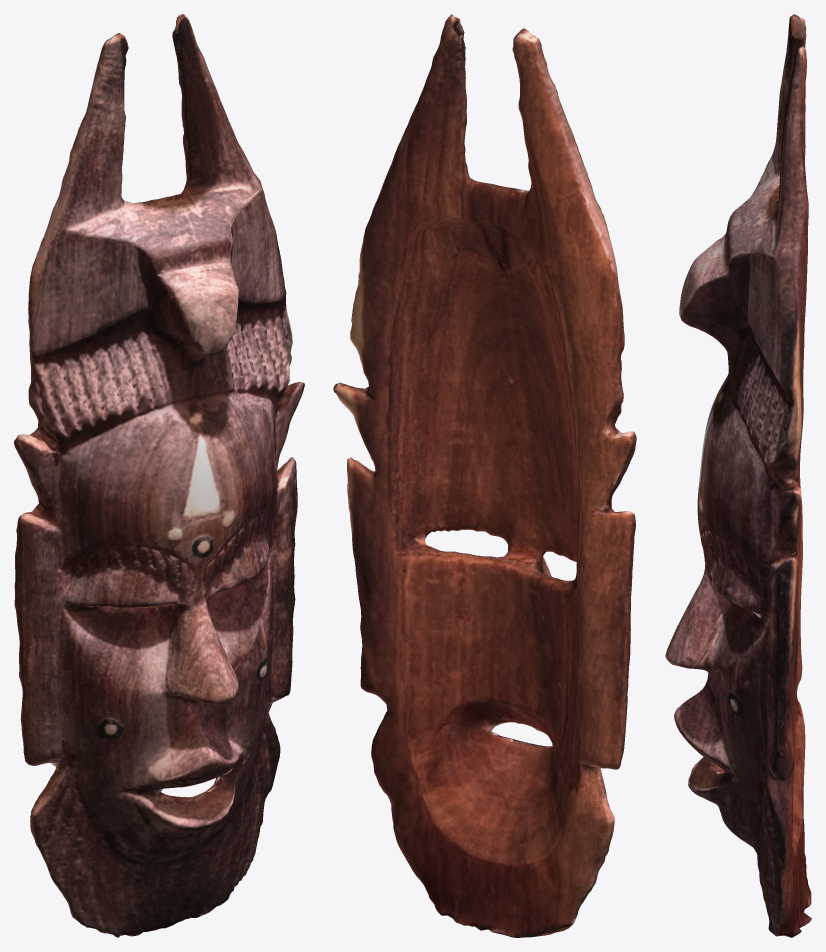
The model's file is senegal_hand_carved_mask.glb.
The picture shows the model from 3 angles, left to right: view 1: azimuth 30°, elevation 25°; view 2: azimuth 150°, elevation 25°; view 3: azimuth 270°, elevation 25°; orthographic projection. The views are drawn at different scales.
Visible parts, largest first — view 1: Object_2; view 2: Object_2; view 3: Object_2.
Part boxes in pixels (bbox=[...]): Object_2: bbox=[14, 14, 304, 937]; Object_2: bbox=[333, 14, 636, 937]; Object_2: bbox=[665, 14, 811, 937].
Size of the model in its own units: 0.401 by 1.18 by 0.1756.
Materials: 1 (1 with a texture image).
